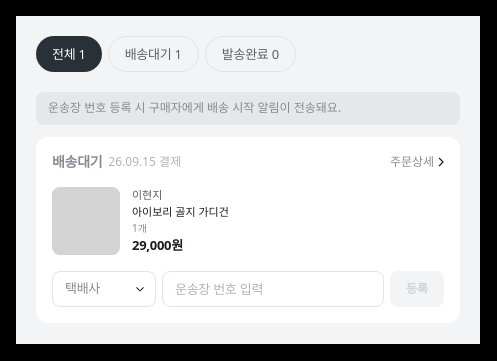
Test case: WaybillForm › 택배사와 10자리 이상 번호가 있어야 등록할 수 있다
The image size is (497, 361).
Select "CJ 대한통운" in the dropdown named "택배사": (104, 289) [52,271,156,307]
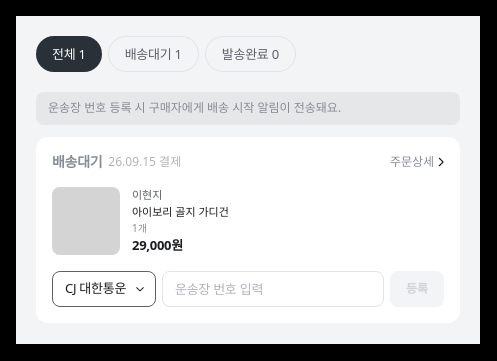
In the field labelled "운송장 번호": (273, 289) [162,271,384,307], type "123456789"
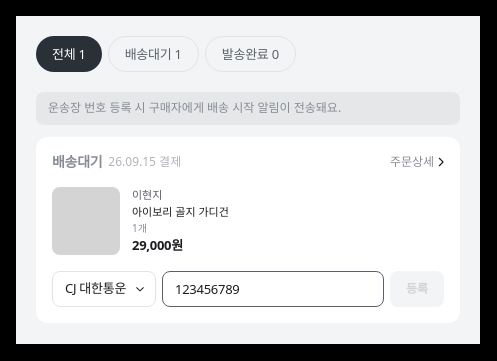
Expected: the button "등록" is disabled, [390,271,444,307]
In the field named "운송장 번호": (273, 289) [162,271,384,307], type "0"
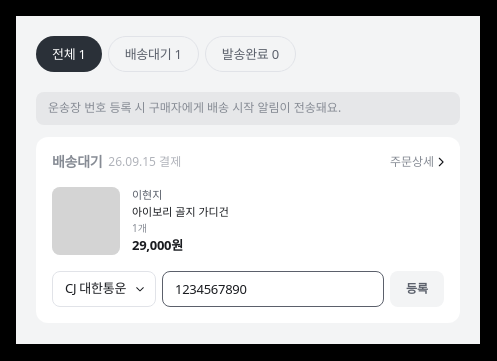
Result: the button "등록" is enabled at [390,271,444,307]
